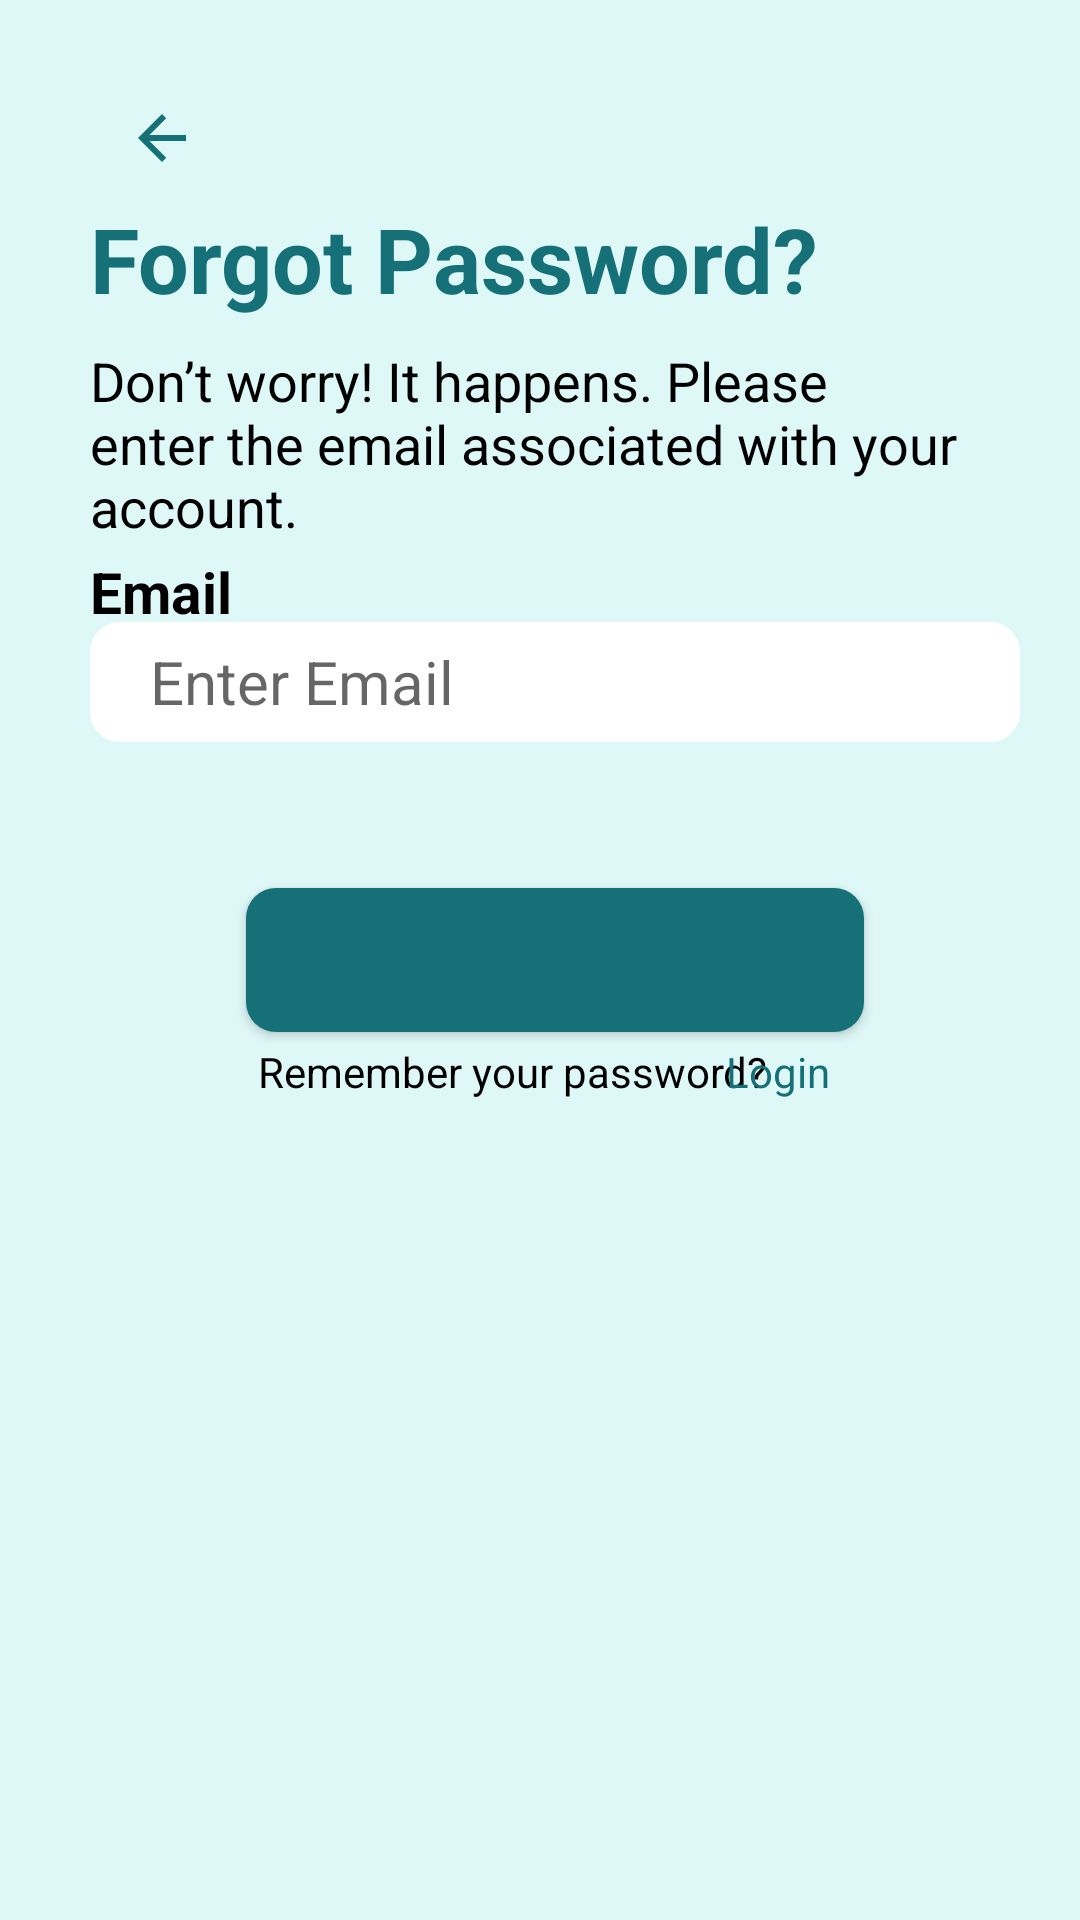

Icon click points for this 1080x1920 phone screenshot, format [x,y]:
arrow back: [162,138]
